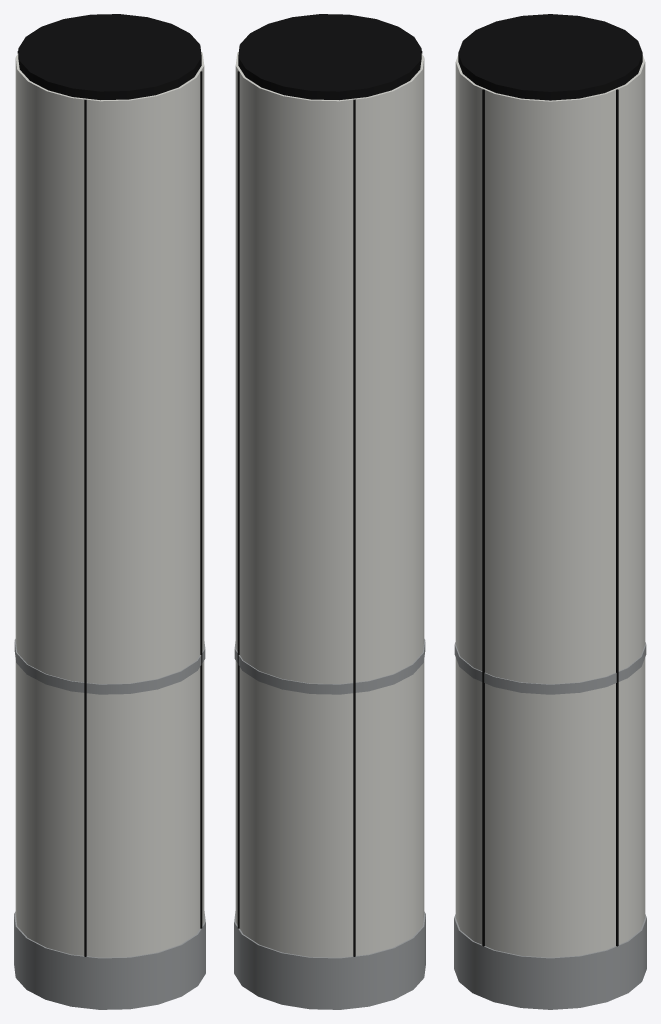
Rendered from gteki_column_round_d600_h3200.glb.
3 renders of one model, left to right at view 1: azimuth 30°, elevation 25°; view 2: azimuth 150°, elevation 25°; view 3: azimuth 270°, elevation 25°, orthographic.
Visible parts, largest first — view 1: VIS_body; view 2: VIS_body; view 3: VIS_body.
Part boxes in pixels (left/top/right/bottom): VIS_body: left=14, top=14, right=205, bottom=1009; VIS_body: left=234, top=14, right=425, bottom=1009; VIS_body: left=454, top=14, right=646, bottom=1009.
Size of what is drawn, in the model's own units: 0.61 by 3.2 by 0.61.
1 material, 1 textured.
